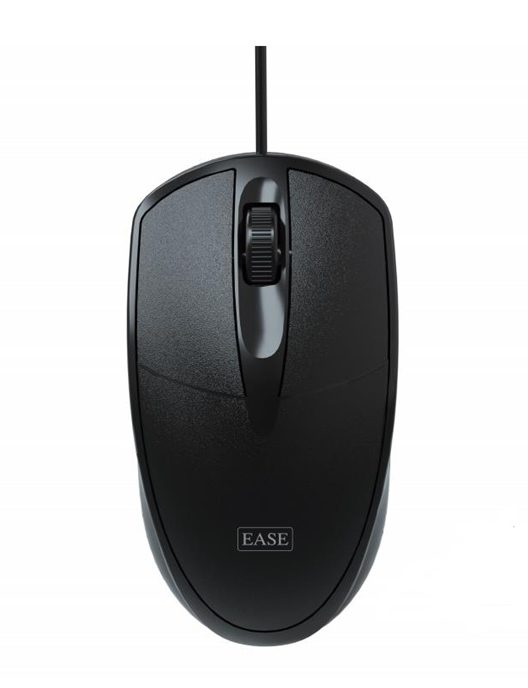mouse: (110, 161, 405, 637)
